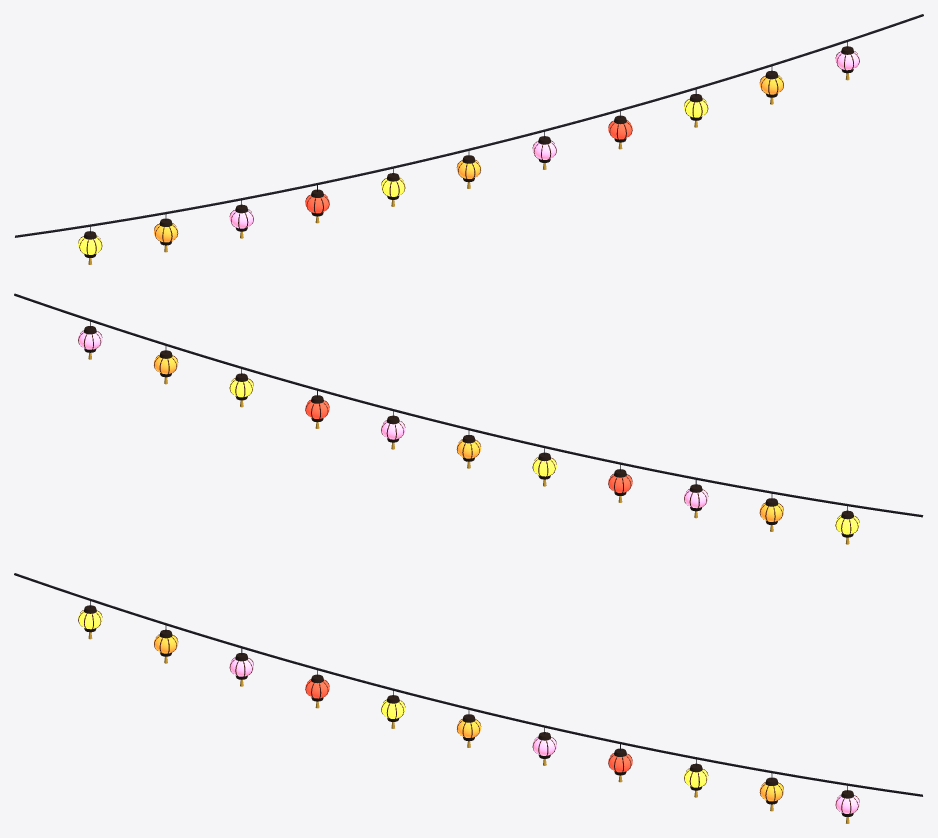
The model's file is lantern_string_side.glb.
3 renders of one model, top to bottom at view 1: azimuth 30°, elevation 25°; view 2: azimuth 150°, elevation 25°; view 3: azimuth 330°, elevation 25°, orthographic.
Bounding box in the file's own units: 10 × 0.6684 × 0.2412.
